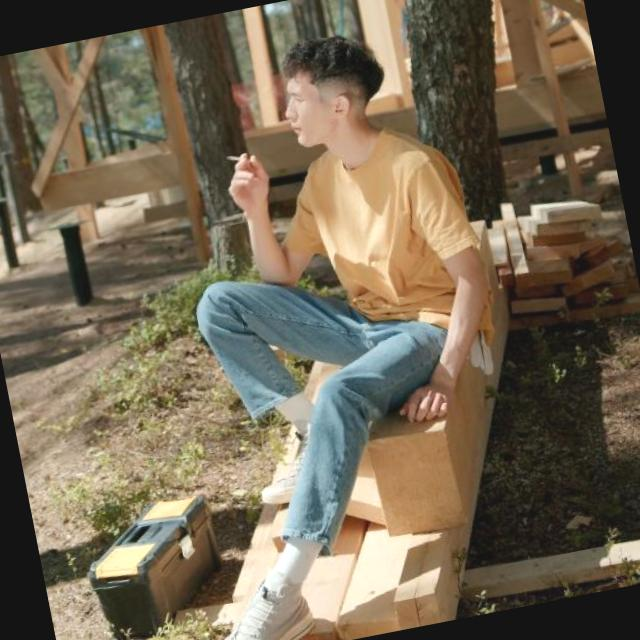smoke: (211, 142, 266, 186)
